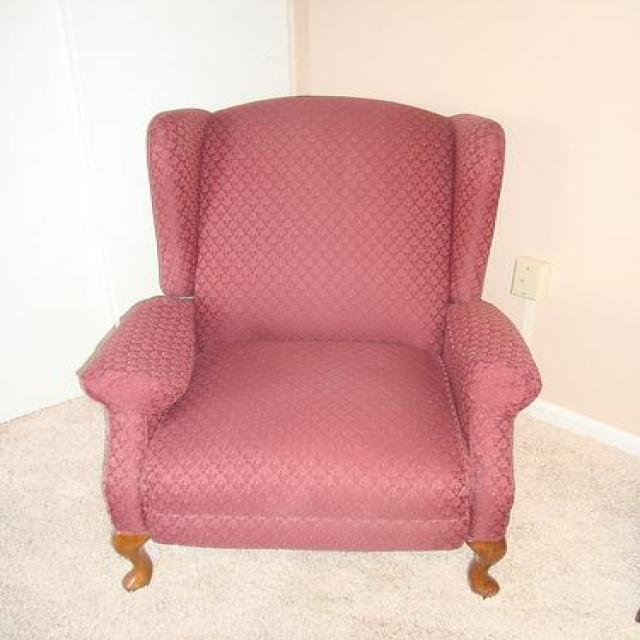chair: (74, 92, 541, 598)
